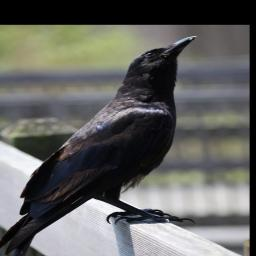Crow: (0, 35, 197, 256)
